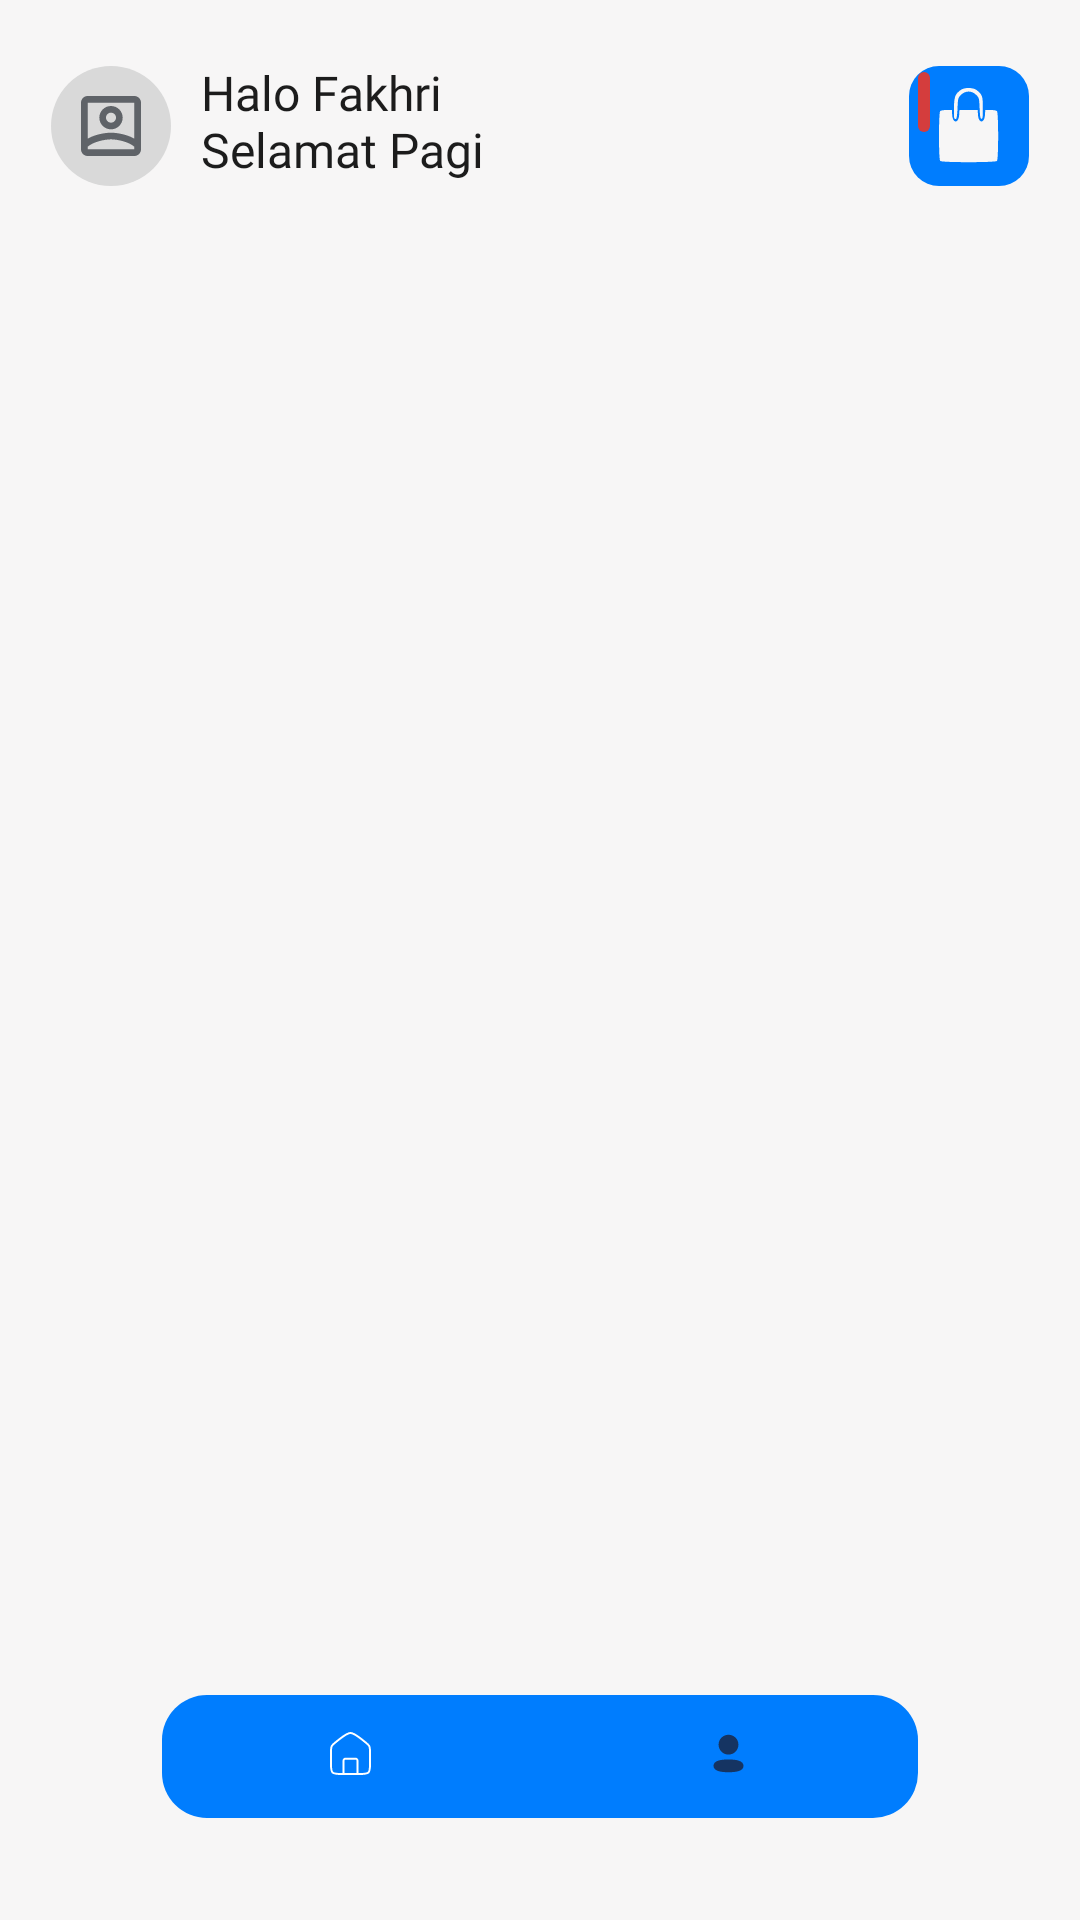

Screen size 1080×1920. Icon name, then its center in pixels as (x,y):
cart: (969,125)
profile pic: (111,126)
